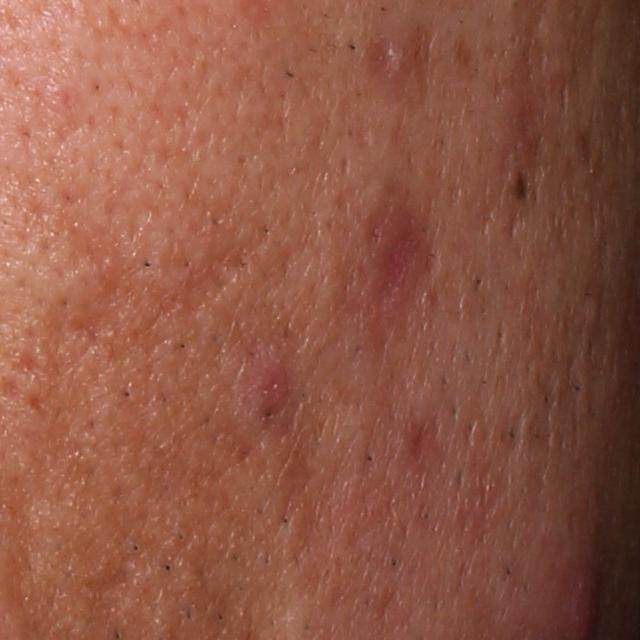atrophic_scar: (361, 191, 439, 343), (360, 22, 418, 82), (24, 66, 56, 134)
nevus: (511, 169, 531, 202)
papule: (243, 352, 302, 431)
